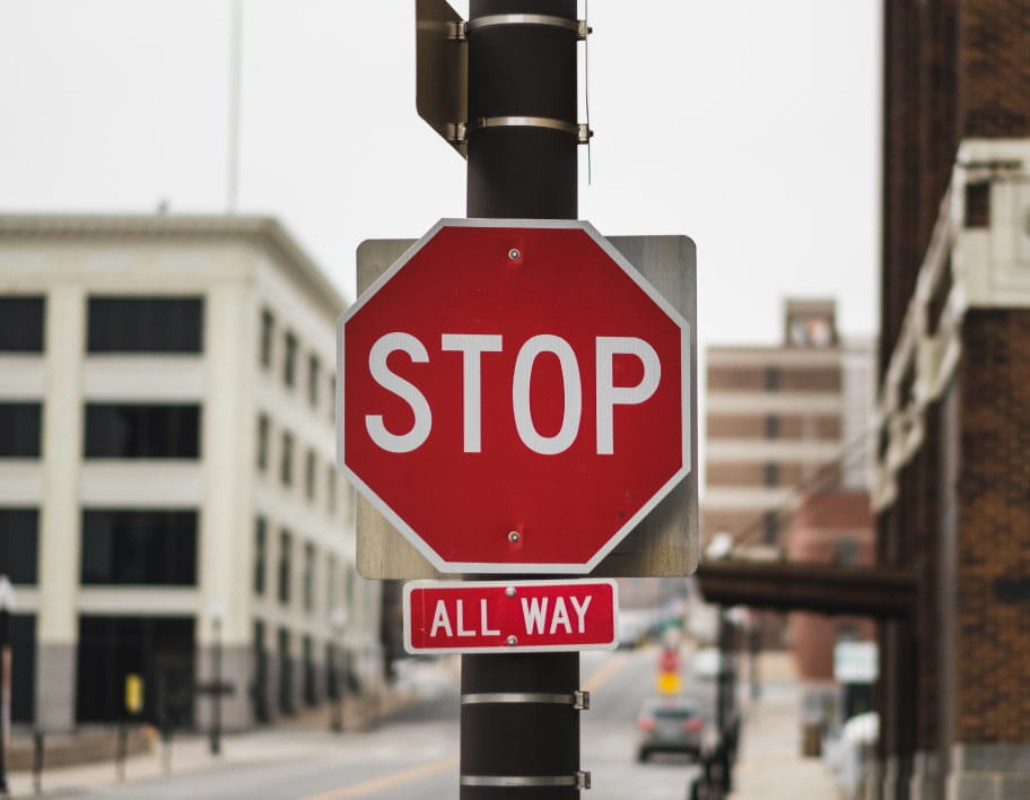stop: (337, 203, 697, 587)
